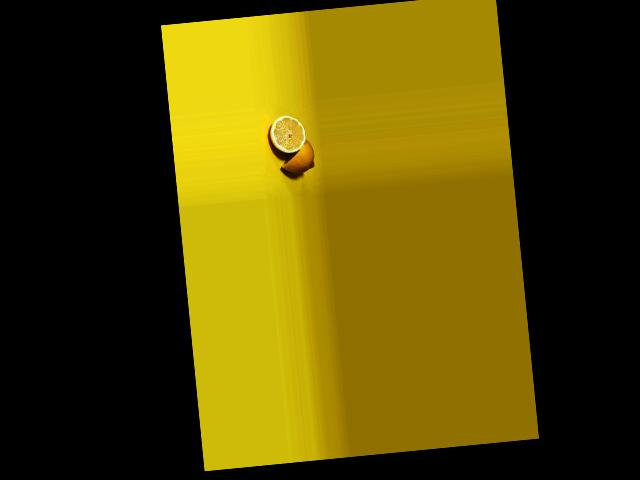lemon: (274, 138, 316, 177)
